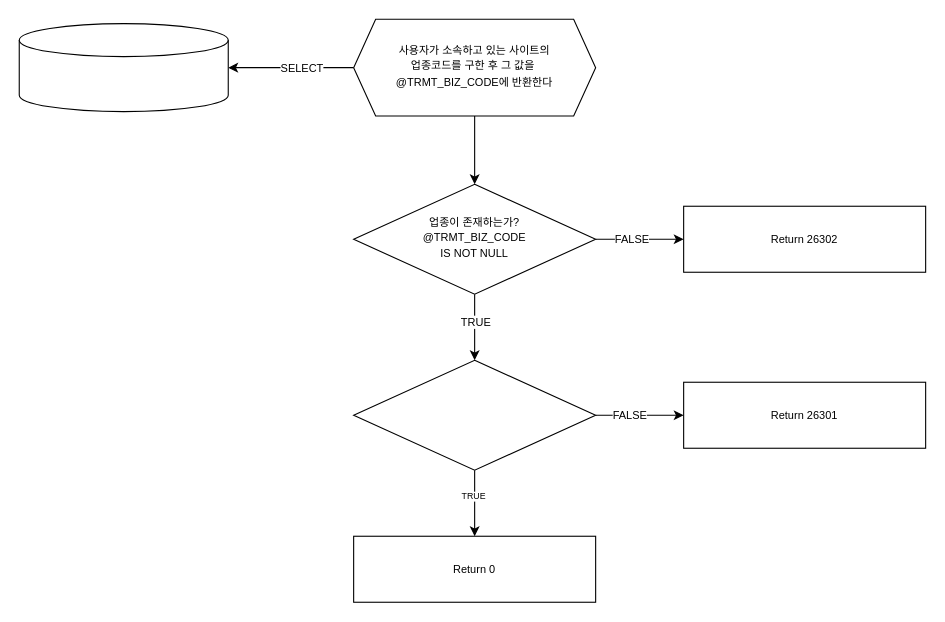
This 945x622 diagram has some shape labels left out. Here are the shapes that lost their labels. From the top down, the centre of each, then its label:
point (123, 67): V_USERS
point (474, 414): 업종이 수거자 직종인가? @TRMT_BIZ_CODE < 9
